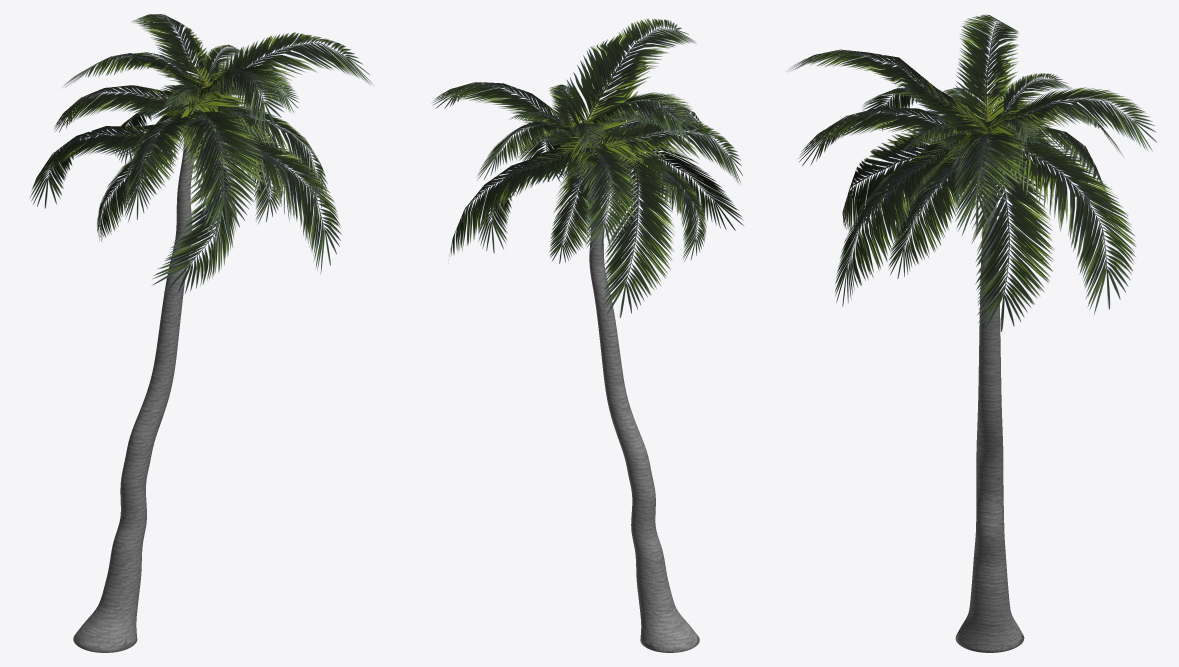
The model's file is tree-or7HB.glb.
3 renders of one model, left to right at view 1: azimuth 30°, elevation 25°; view 2: azimuth 150°, elevation 25°; view 3: azimuth 270°, elevation 25°, orthographic. The views are drawn at different scales.
Parts seen in each view (by area): view 1: Cylinder.001; view 2: Cylinder.001; view 3: Cylinder.001.
Part boxes in pixels (bbox=[...]): Cylinder.001: bbox=[30, 14, 373, 652]; Cylinder.001: bbox=[432, 19, 743, 652]; Cylinder.001: bbox=[786, 14, 1156, 652].
Bounding box in the file's own units: 2.57 × 4.5 × 2.47.
2 materials, 2 textured.
